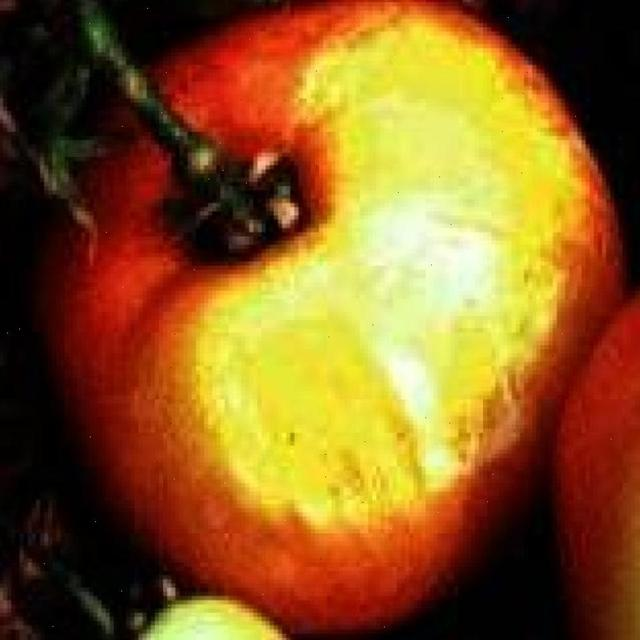Sunscald Fruit: (105, 8, 384, 374)
